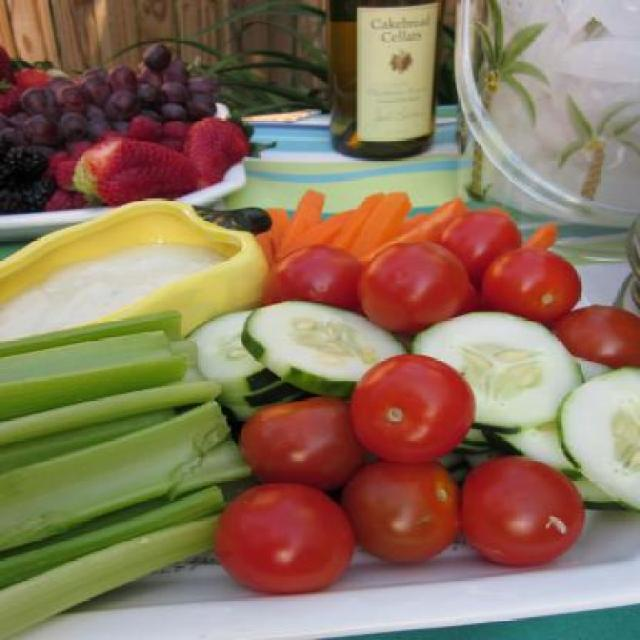Cucumber: (178, 297, 640, 514), (407, 308, 584, 432)
